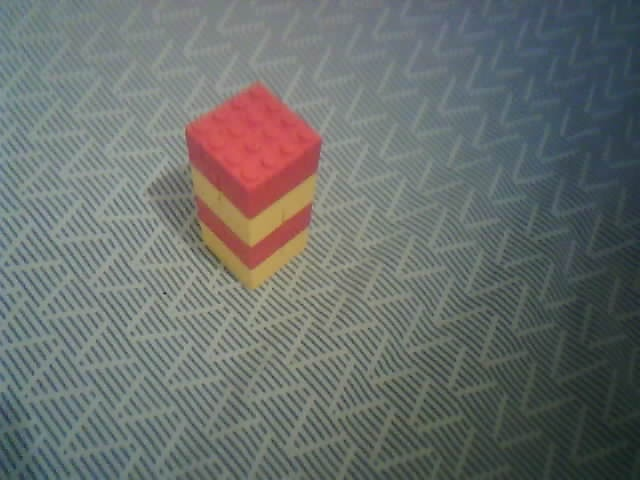lego: (184, 81, 324, 289)
